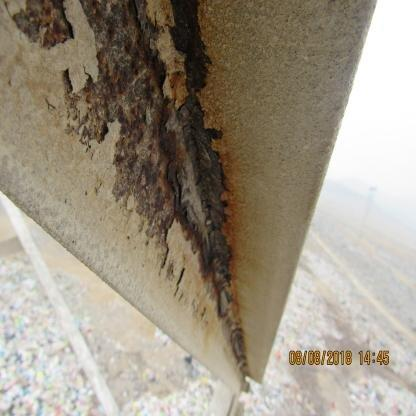rust: (8, 0, 253, 382), (164, 234, 232, 358)
